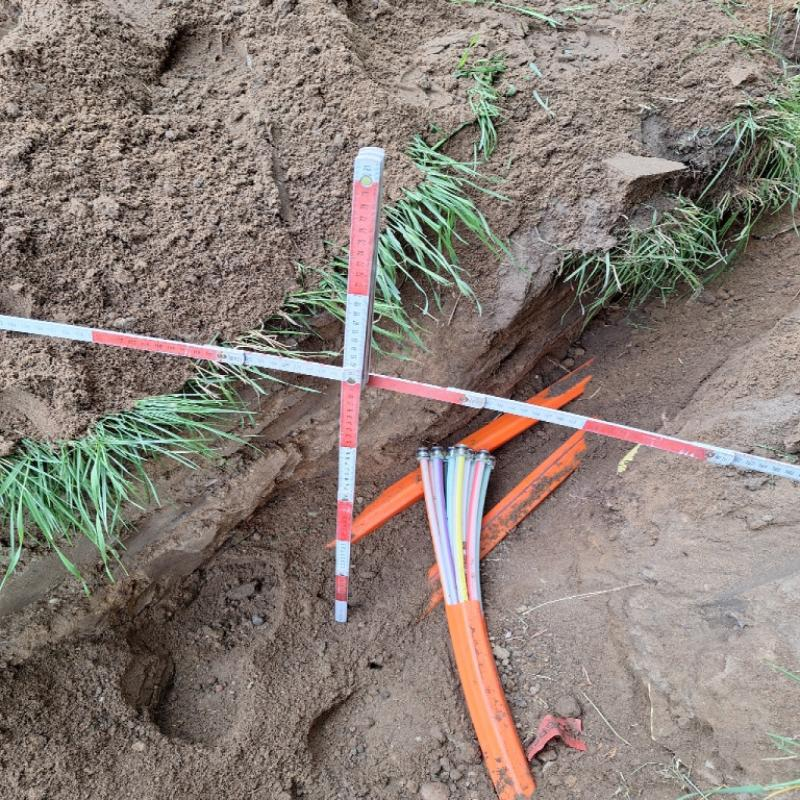Orang-Speednetrohrchen: (352, 374, 584, 796)
